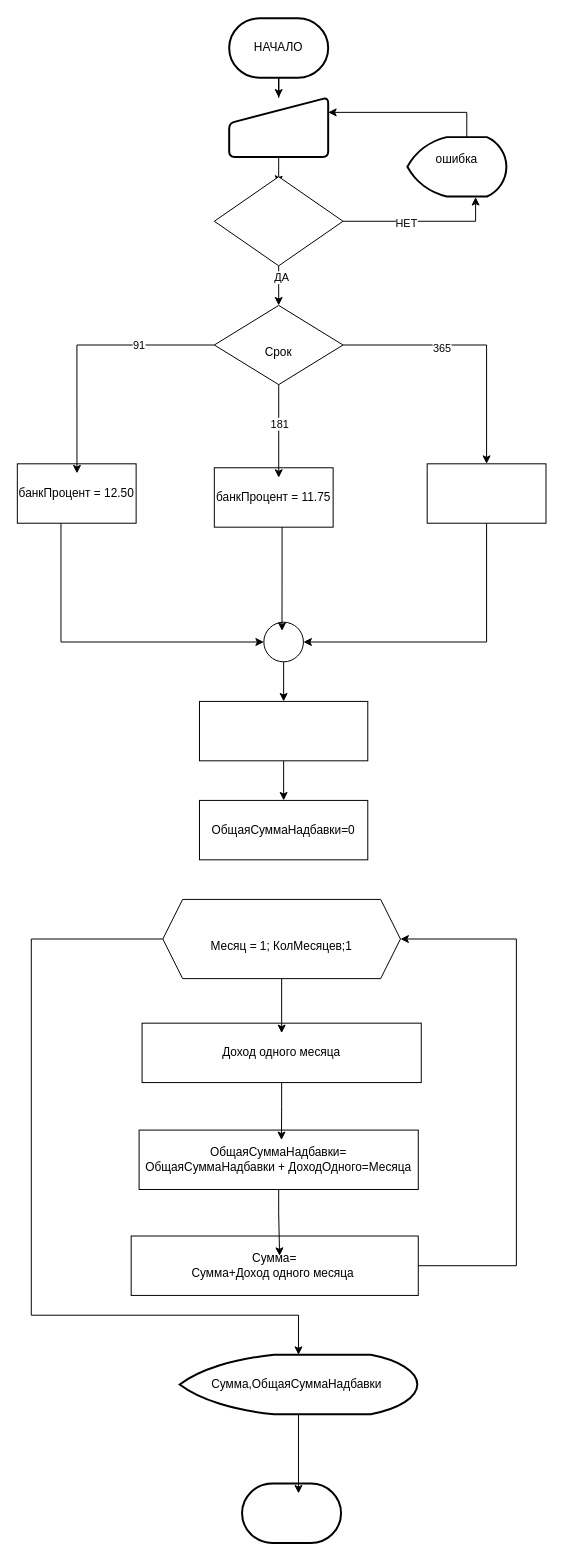
The diagram is 563 pixels wide and 1560 high, and some of its shapes have lost their labels. Here are the shapes that lost their labels. From the top down, the centre of each, then its label:
the point at 278,126: СУММА, СРОК
the point at 278,221: Срок правильный ?
the point at 486,493: БанкПроцент = 11.50
the point at 283,730: КолМесяцев =Срок/30
the point at 291,1512: Конец
